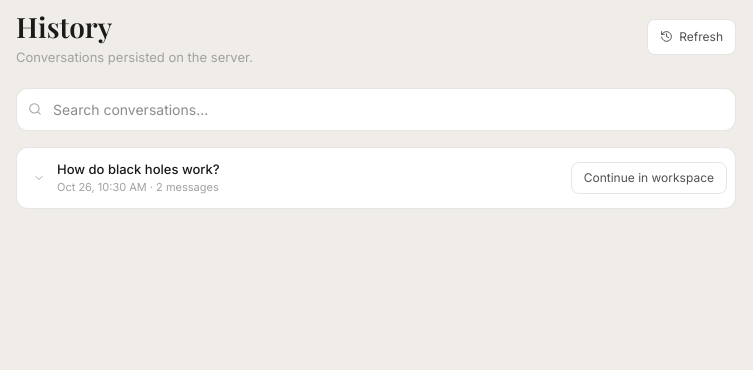
Test: HistoryView › expands on click to load saved turns, and collapses again
Click the button "How do black holes work? Oct 26, 10:30 AM · 2 messages": (138, 168) [25,154,563,202]
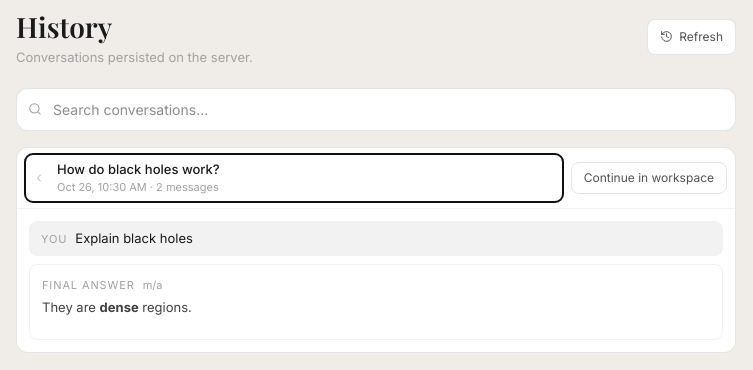
Expected: the text "Explain black holes" is shown, [75,230,193,246]
Expected: the text "dense" is shown, [100,298,139,314]
Click the button "How do black holes work? Oct 26, 10:30 AM · 2 messages": (138, 168) [25,154,563,202]
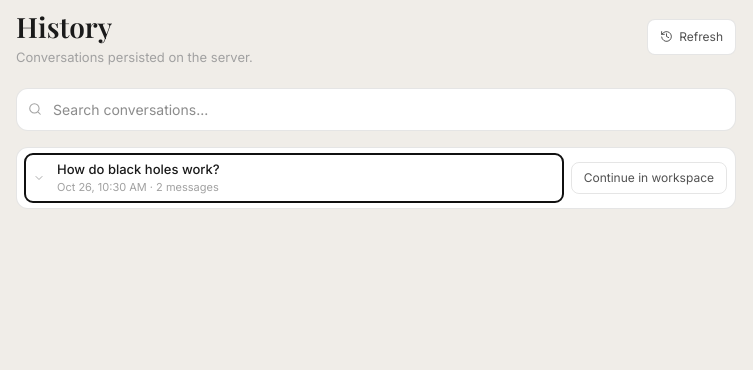
Expected: the text "Explain black holes" is gone
